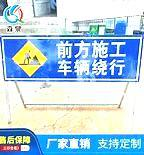sign: (1, 36, 140, 82)
